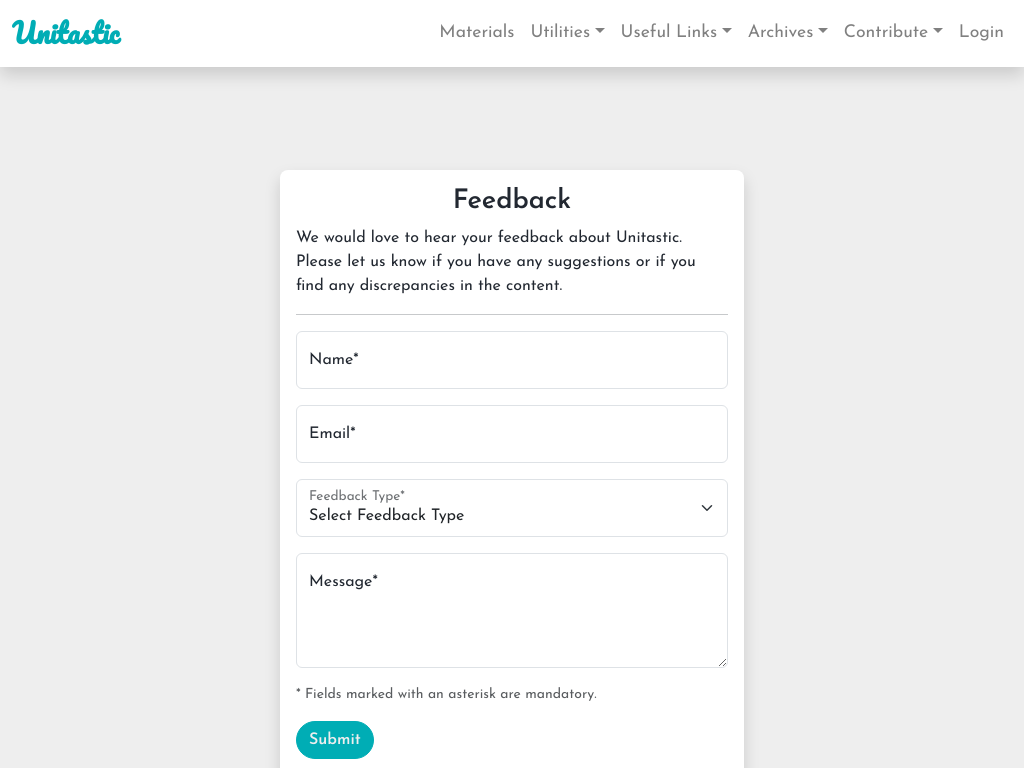
FeedbackForm Component › handles form submission error
// Fill out the form
Type "Jane Doe" into the field labelled "Name*" at [512, 360], box [296, 331, 728, 389]
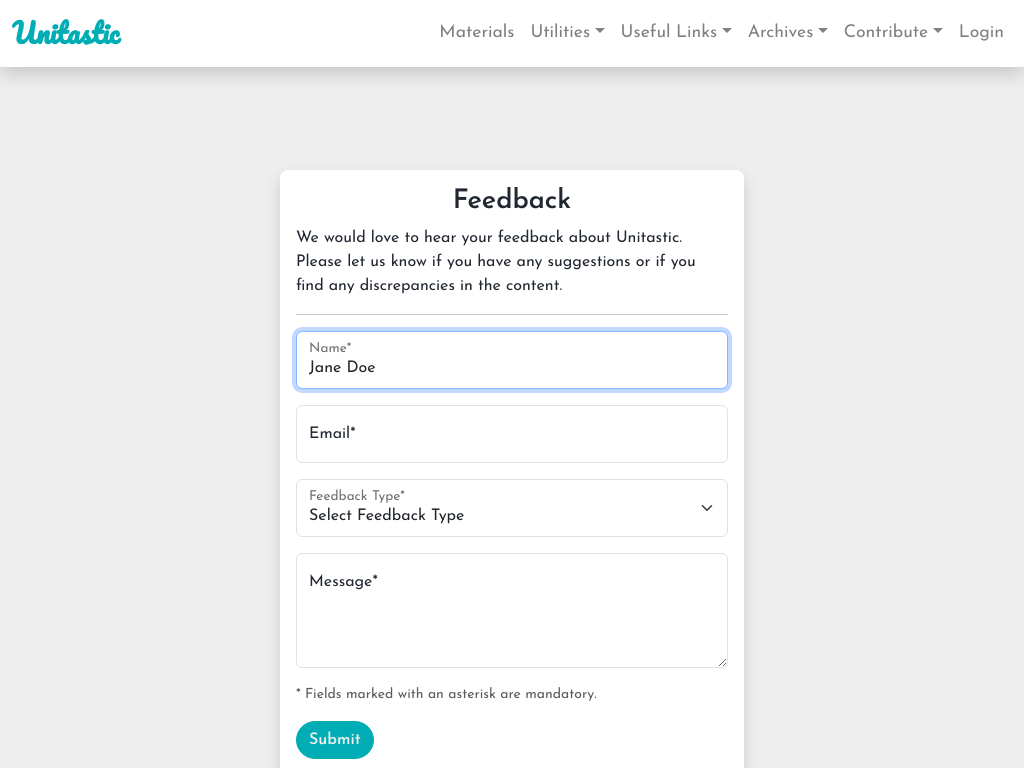
Type "jane@example.com" into the field labelled "Email*" at [512, 434], box [296, 405, 728, 463]
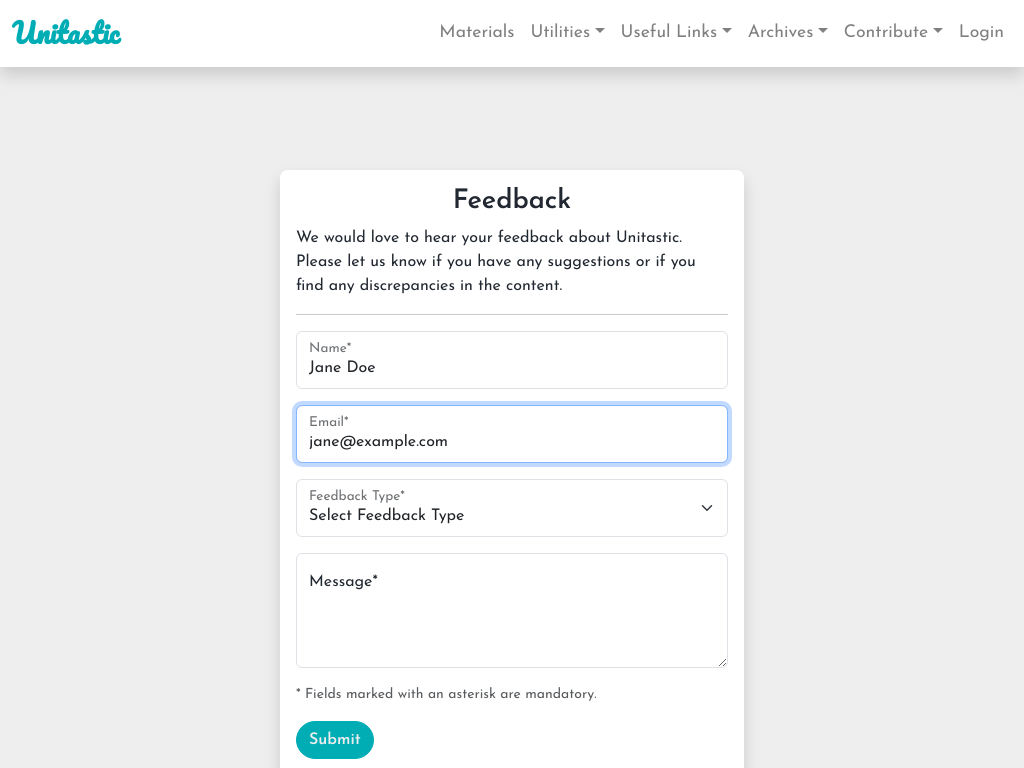
Select "Discrepancy" in the dropdown labelled "Feedback Type*" at [512, 508], box [296, 479, 728, 537]
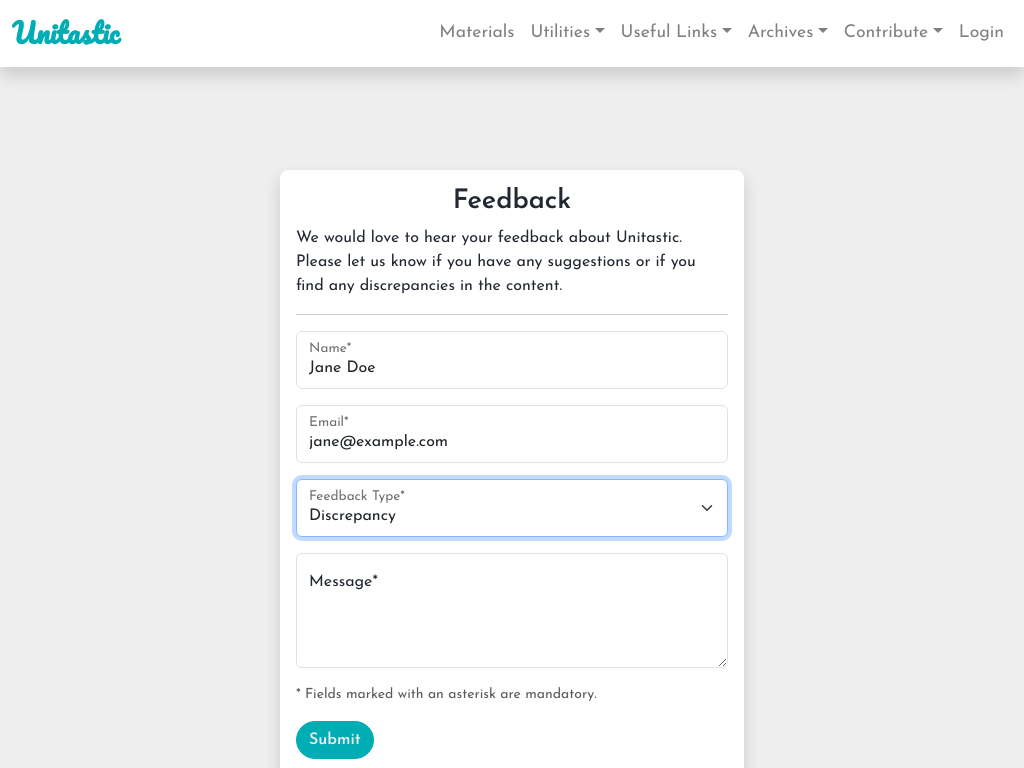
Type "Found an error on page X" into the text box labelled "Message*" at [512, 610], box [296, 553, 728, 668]
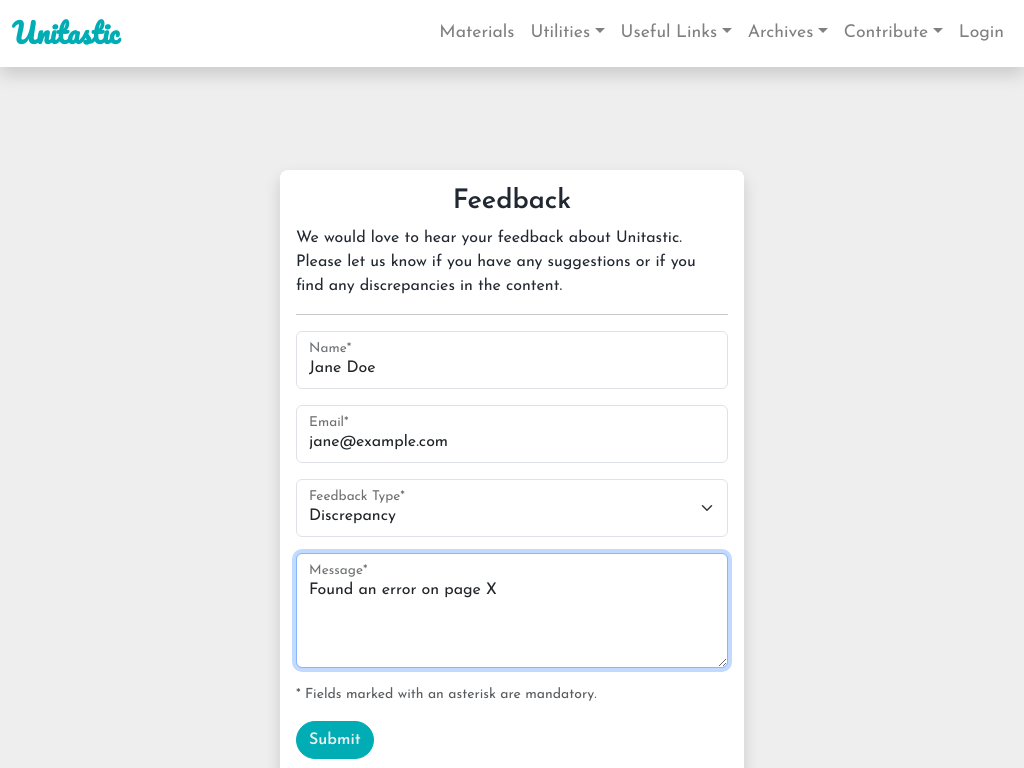
Click the button "Submit" at [335, 740], box [296, 721, 374, 759]
(page scrolled)
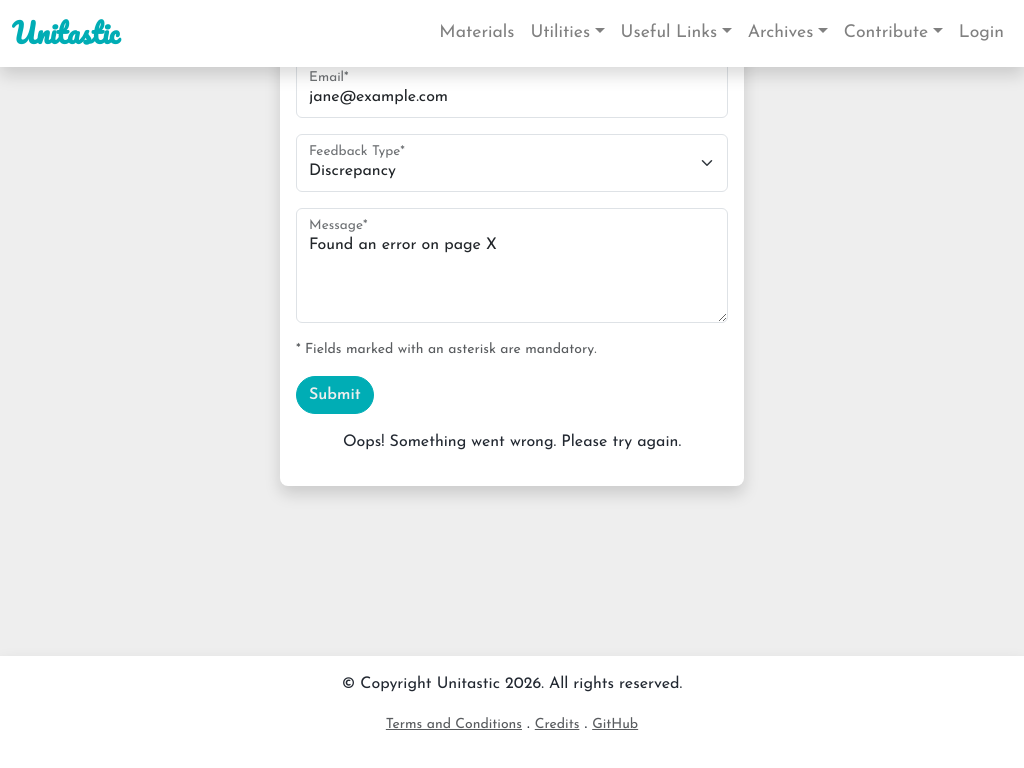
Now the text "Oops! Something went wrong. Please try again." is shown, box [343, 434, 681, 450]
